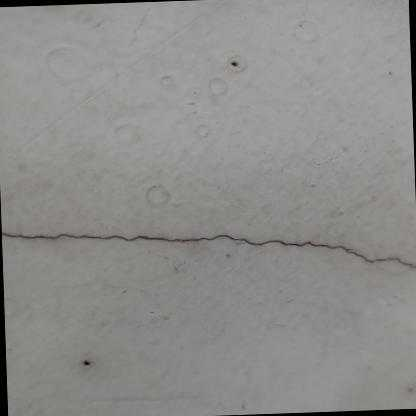crack: (180, 235, 416, 267), (1, 233, 181, 241)
